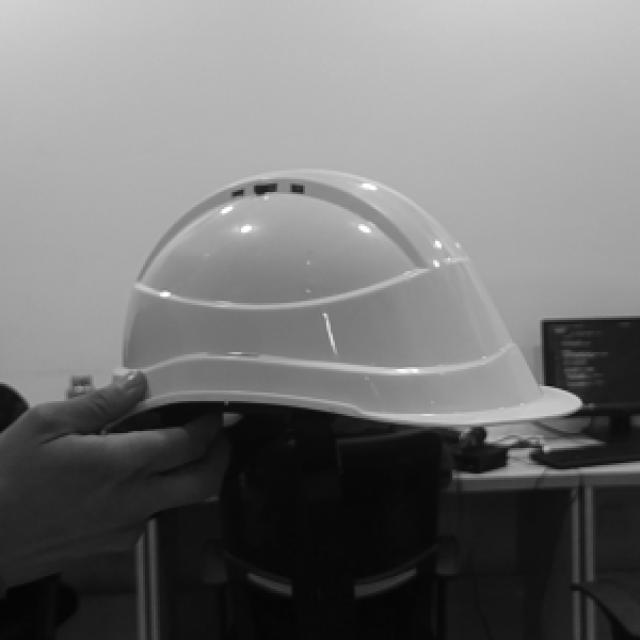safety_helmet: (116, 168, 582, 426)
